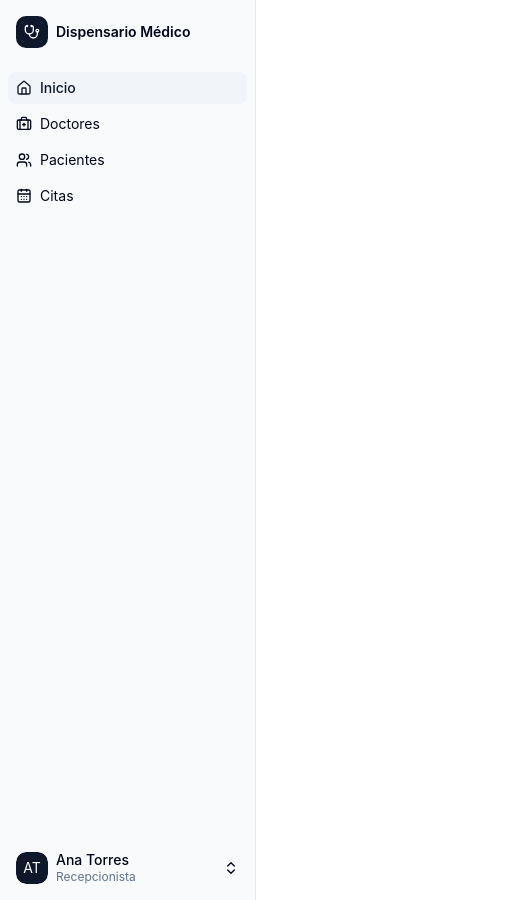
AppSidebar › goes to /profile from Mi perfil
Click the button with aria-label "Menú de usuario": {"x": 128, "y": 868} [8, 844, 247, 892]
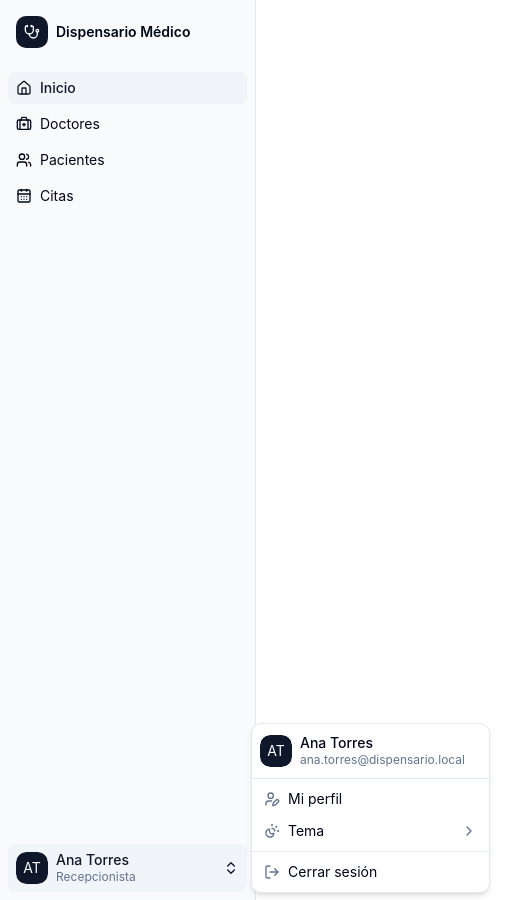
Click the menu item "Mi perfil": {"x": 303, "y": 798} [264, 790, 342, 806]
(page scrolled)
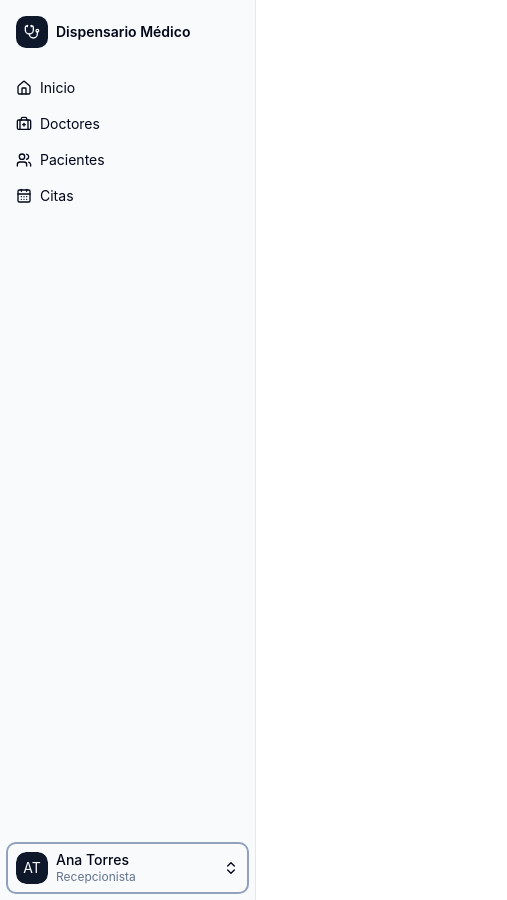
Result: the text "Página del perfil" is shown at [0, 878, 122, 898]
